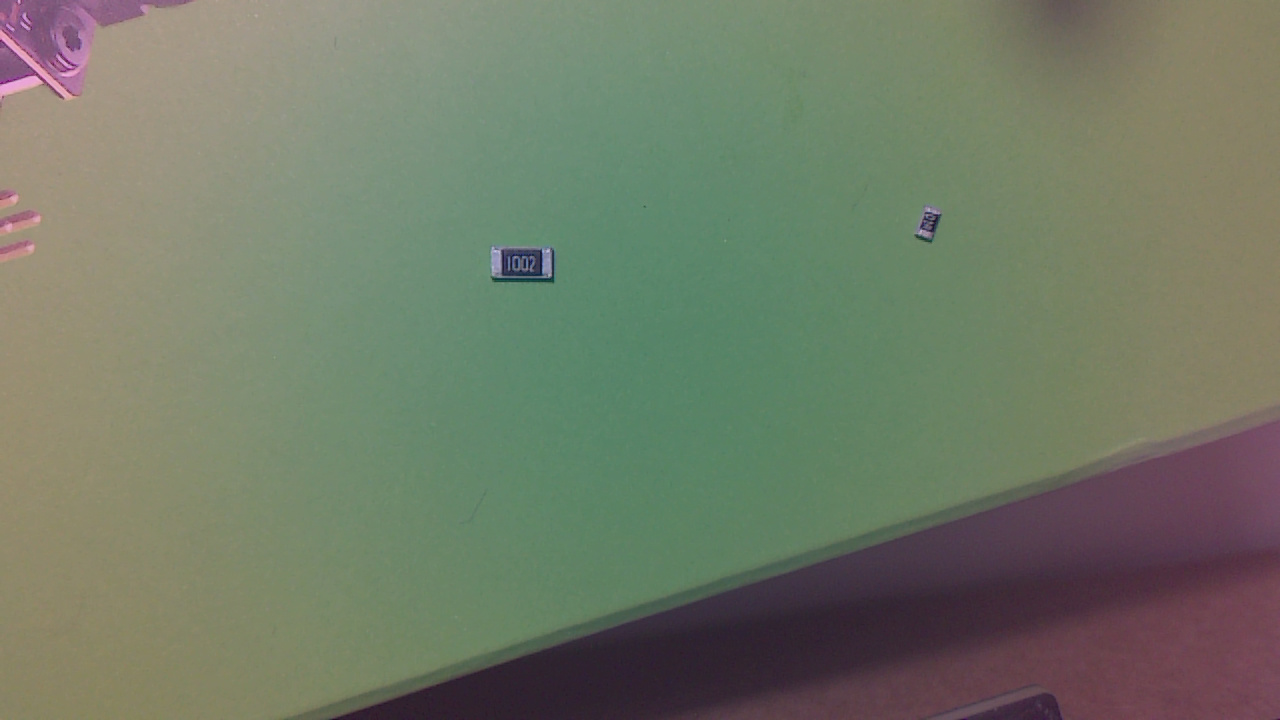Resistor: (494, 250, 561, 287), (921, 211, 947, 249)
